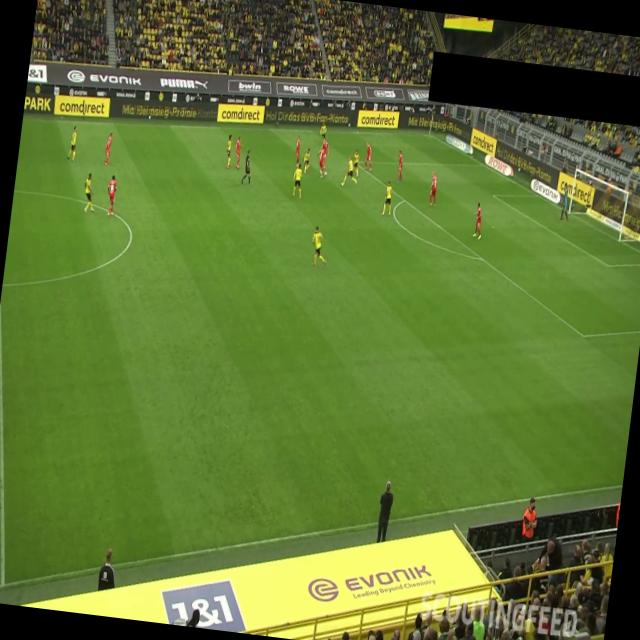ball: (323, 170, 328, 177)
goalkeeper: (558, 182, 572, 222)
player: (309, 225, 331, 268), (81, 171, 99, 214), (340, 154, 358, 188), (104, 174, 118, 216), (290, 160, 305, 199), (471, 202, 485, 239), (381, 180, 394, 216), (66, 125, 78, 162), (428, 172, 440, 208), (232, 135, 244, 169), (315, 146, 327, 178), (318, 137, 330, 168), (363, 141, 375, 171), (351, 148, 362, 180), (224, 134, 234, 168), (103, 132, 113, 166), (395, 150, 405, 183), (302, 146, 312, 174), (294, 135, 302, 165), (318, 122, 328, 146)
referee: (240, 148, 254, 184)
